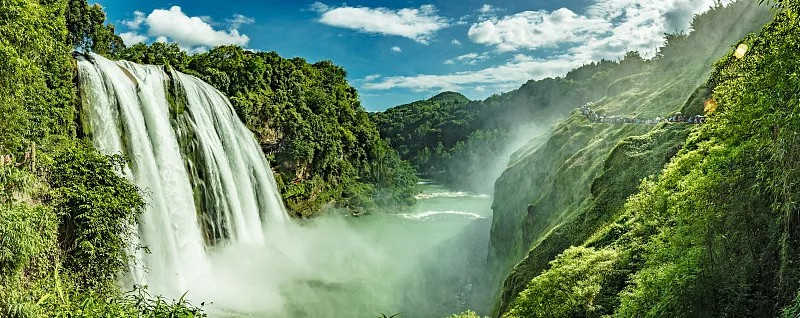Huangguoshu: (76, 52, 290, 285)
